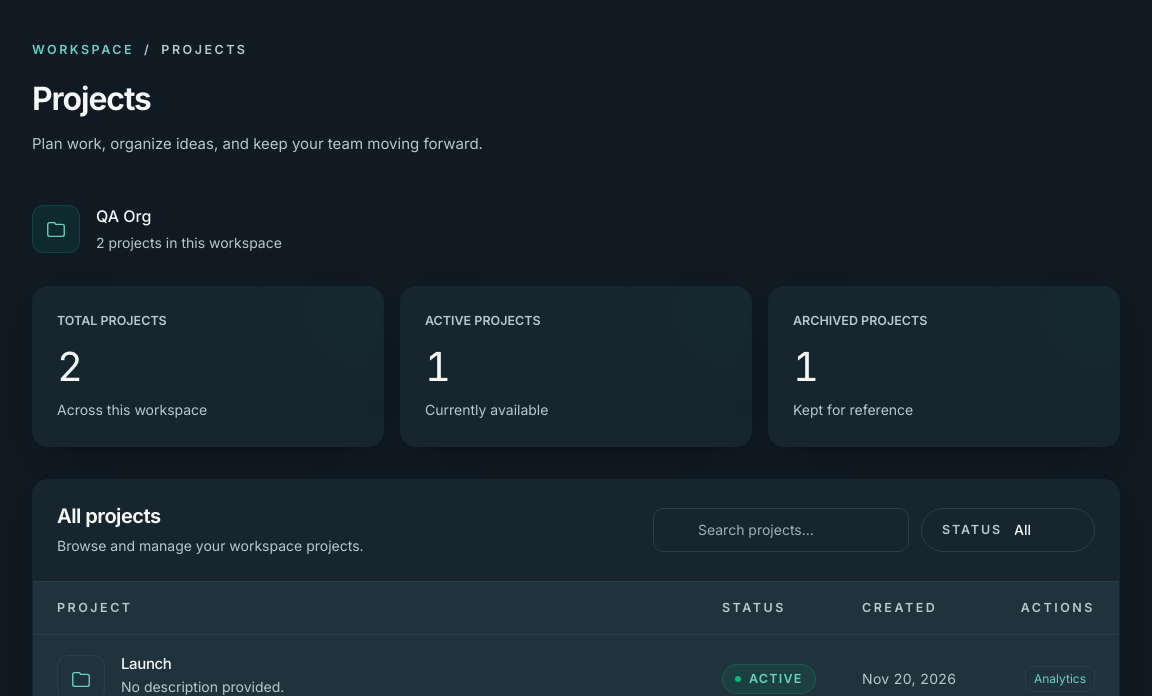
Scenario: Project Team controls › filters projects by status and search without changing the selected organization
Expected: the heading "Launch" is shown, [121,654,172,673]
Select "Archived" in the dropdown named "Filter projects by status": (1044, 530) [1014,519,1074,541]
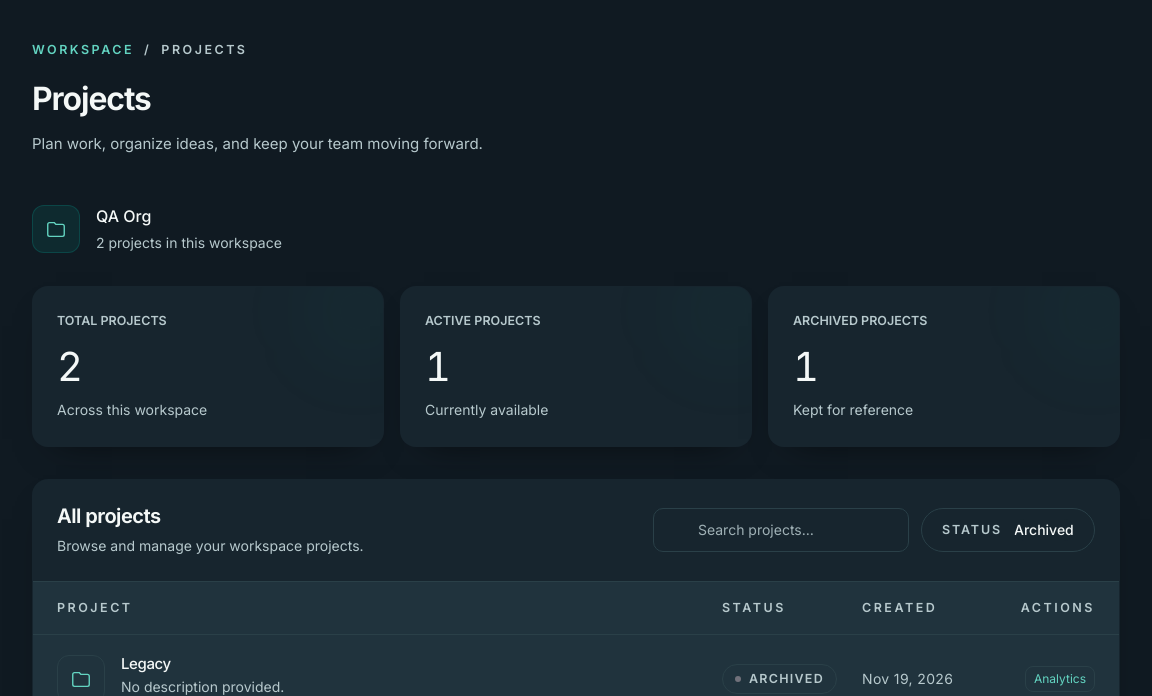
Expected: the heading "Legacy" is shown, [121,654,171,673]
Result: the heading "Launch" is gone
In the search field labelled "Search projects": (781, 530) [653,508,909,552], type "missing"
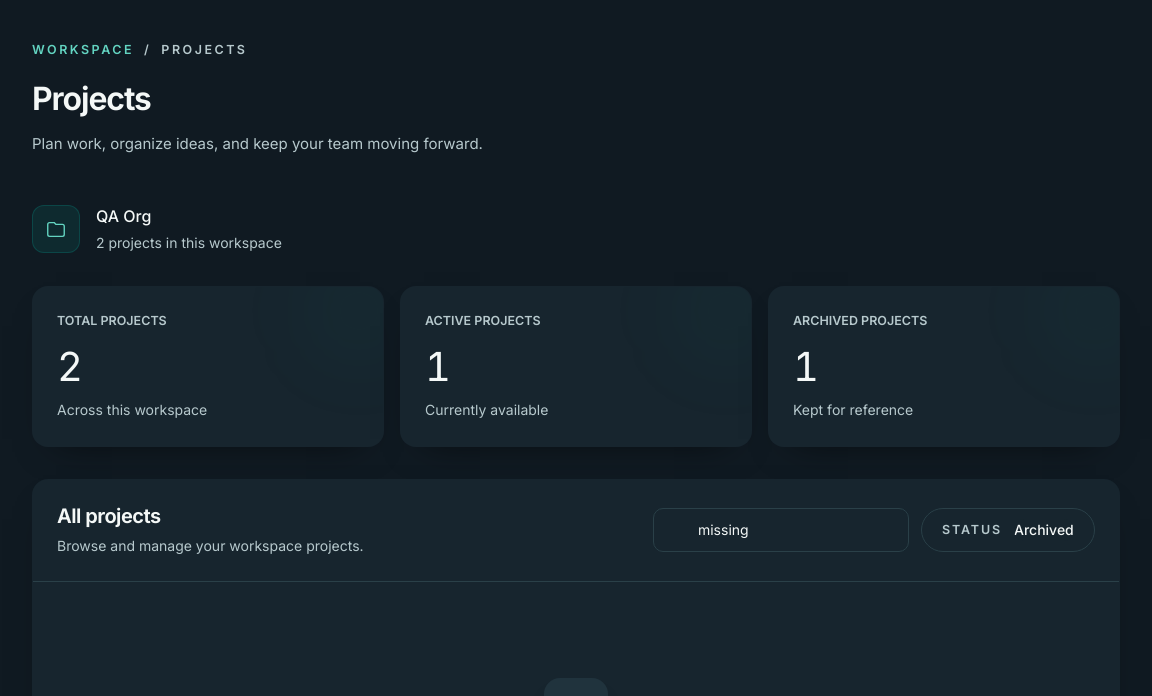
Result: the heading "Legacy" is gone
